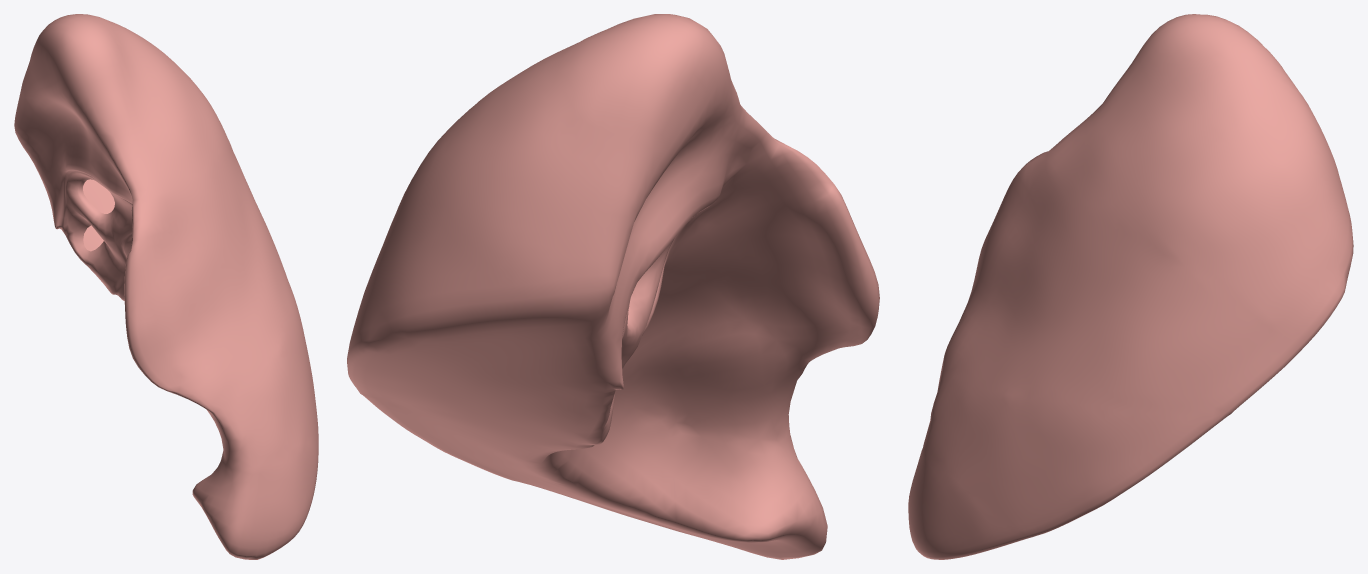
The model's file is lung-superior-left.glb.
The picture shows the model from 3 angles, left to right: view 1: azimuth 30°, elevation 25°; view 2: azimuth 150°, elevation 25°; view 3: azimuth 270°, elevation 25°; orthographic projection. The views are drawn at different scales.
Visible parts, largest first — view 1: Superior lobe of left lung; view 2: Superior lobe of left lung; view 3: Superior lobe of left lung.
Boxes of the visible parts, x1,y1,x2,y2 form: Superior lobe of left lung: (14, 14, 318, 559); Superior lobe of left lung: (347, 14, 879, 559); Superior lobe of left lung: (908, 14, 1353, 559).
Bounding box in the file's own units: 0.1141 × 0.2115 × 0.1708.
